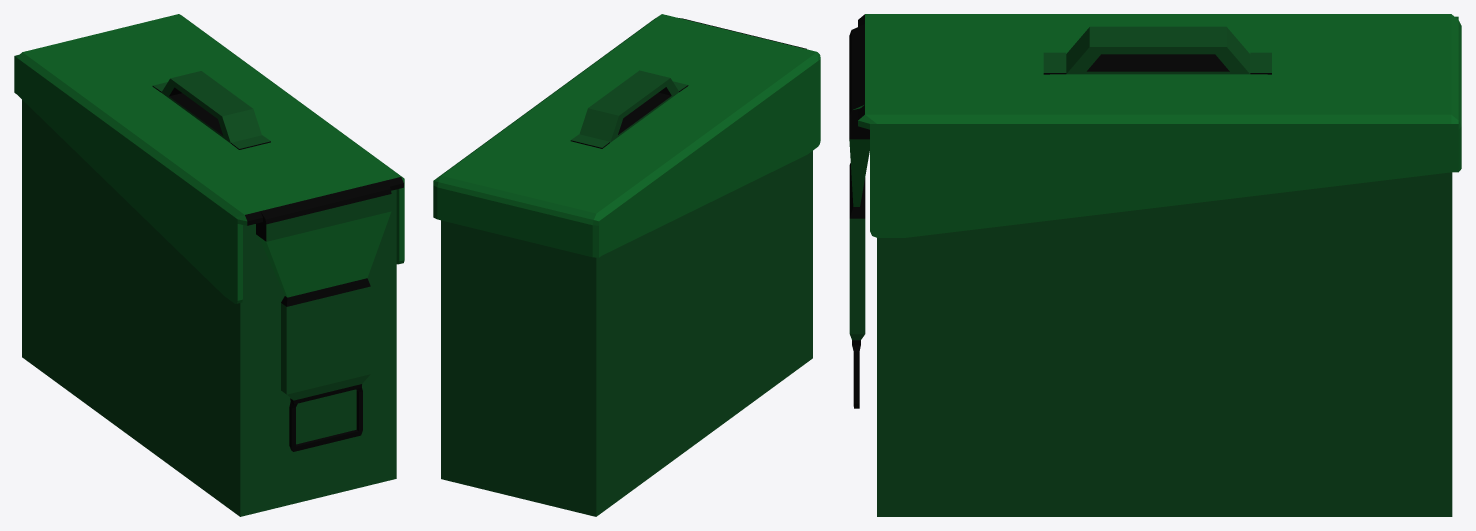
Rendered from Ammo_Box_Type001.fbx.
3 renders of one model, left to right at view 1: azimuth 30°, elevation 25°; view 2: azimuth 150°, elevation 25°; view 3: azimuth 270°, elevation 25°, orthographic. The views are drawn at different scales.
Parts seen in each view (by area): view 1: Cube; view 2: Cube; view 3: Cube.
Part boxes in pixels (x1,y1,x2,y2): Cube: (14, 14, 404, 516); Cube: (433, 14, 820, 516); Cube: (849, 14, 1461, 516).
Size of the model in its own units: 80.99 by 151 by 195.
